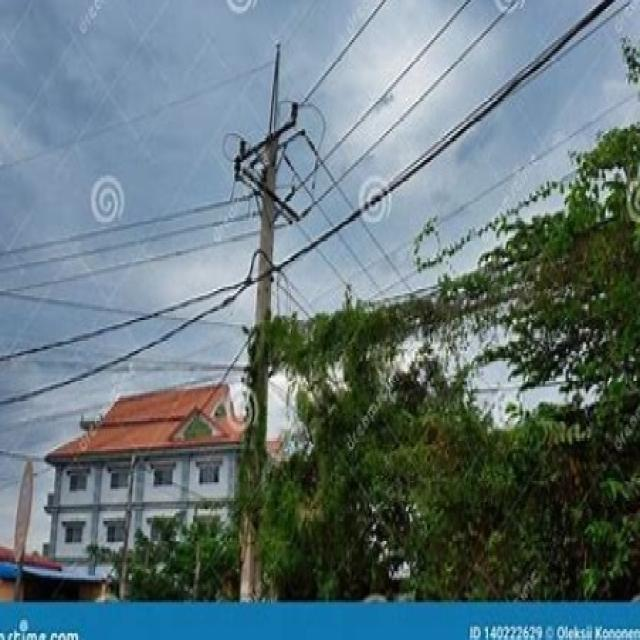critical vegetation: (248, 284, 640, 401)
